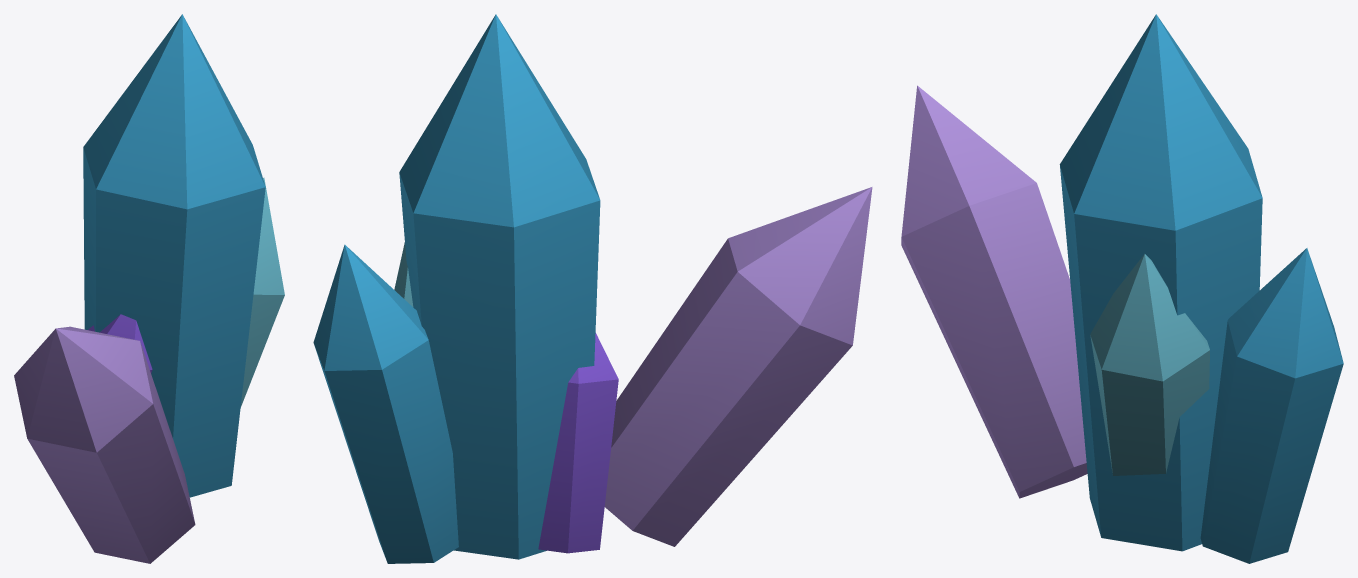
The model's file is decor_3.fbx.
The picture shows the model from 3 angles, left to right: view 1: azimuth 30°, elevation 25°; view 2: azimuth 150°, elevation 25°; view 3: azimuth 270°, elevation 25°; orthographic projection. The views are drawn at different scales.
Parts seen in each view (by area): view 1: decor_3; view 2: decor_3; view 3: decor_3.
Part boxes in pixels (left/top/right/bottom): decor_3: left=14, top=14, right=284, bottom=563; decor_3: left=313, top=14, right=872, bottom=563; decor_3: left=901, top=14, right=1343, bottom=563.
Bounding box in the file's own units: 0.9814 × 1.32 × 0.9877.
